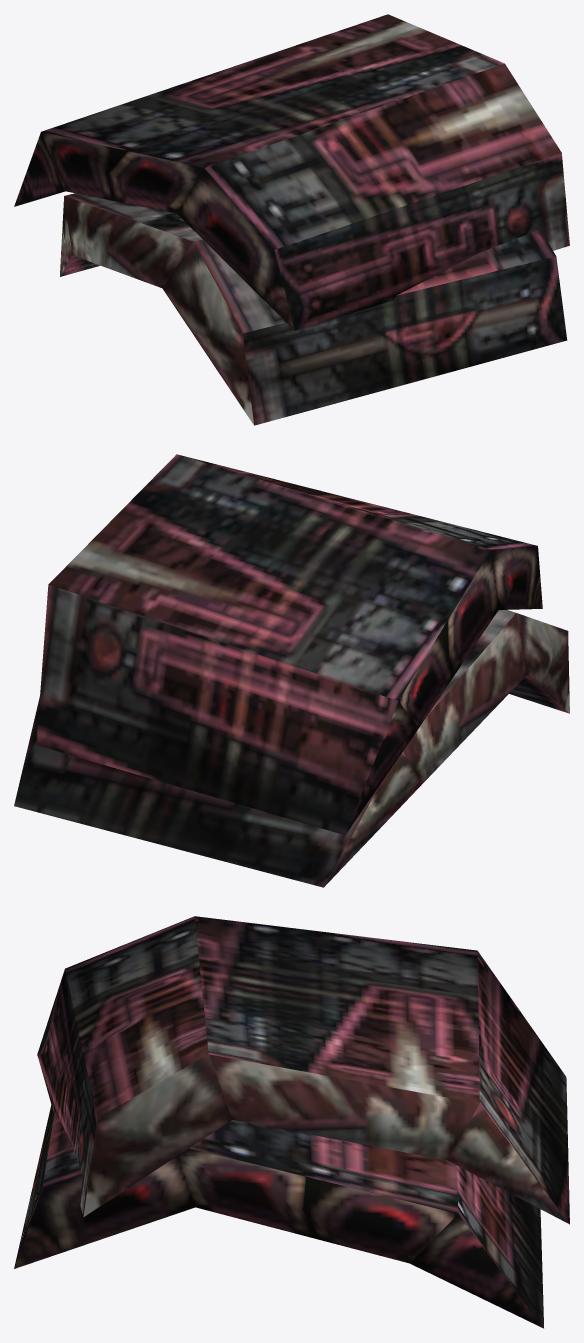
Rendered from ShoulderPads5__BOS.glb.
3 renders of one model, top to bottom at view 1: azimuth 30°, elevation 25°; view 2: azimuth 150°, elevation 25°; view 3: azimuth 270°, elevation 25°, orthographic. The views are drawn at different scales.
Visible parts, largest first — view 1: ShoulderPads5; view 2: ShoulderPads5; view 3: ShoulderPads5.
Boxes of the visible parts, bbox=[...] form: ShoulderPads5: bbox=[14, 14, 569, 425]; ShoulderPads5: bbox=[14, 454, 569, 887]; ShoulderPads5: bbox=[14, 916, 569, 1328].
Bounding box in the file's own units: 8.51 × 5.51 × 10.
Materials: 1 (1 with a texture image).
